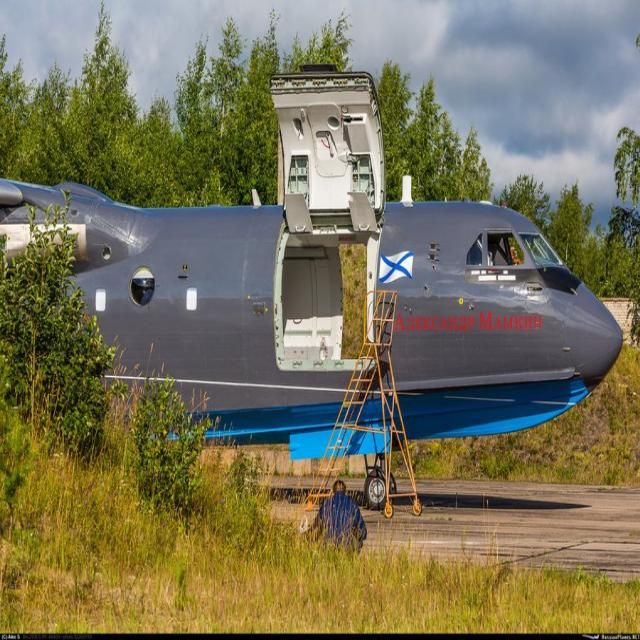MIL_Plane: (1, 62, 623, 510)
